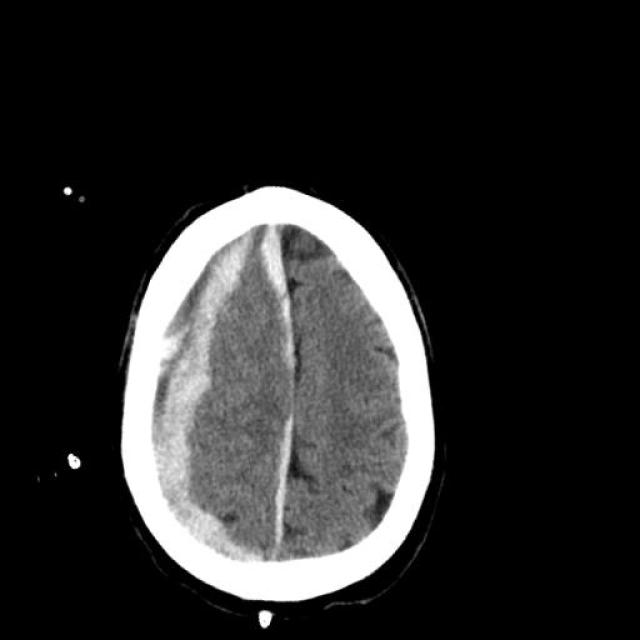Subdural: (21, 182, 362, 588), (220, 216, 360, 377), (233, 413, 348, 561)
